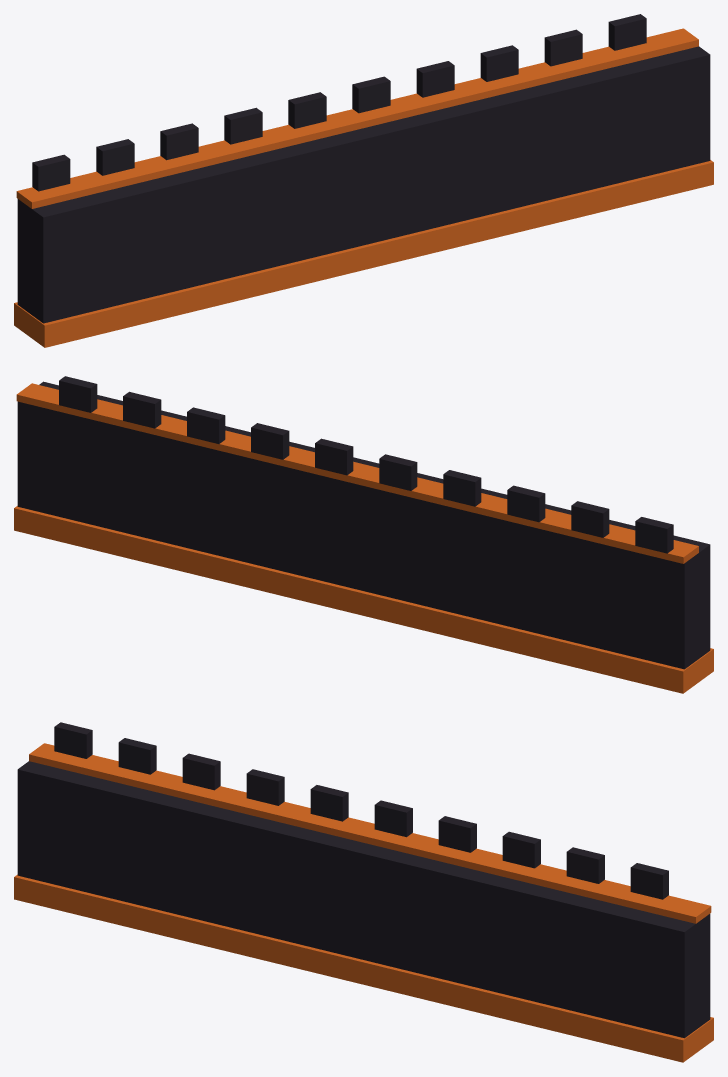
The model's file is demon_wall_broken.glb.
The picture shows the model from 3 angles, top to bottom: view 1: azimuth 30°, elevation 25°; view 2: azimuth 150°, elevation 25°; view 3: azimuth 330°, elevation 25°; orthographic projection.
Parts seen in each view (by area): view 1: demon_wall_piece1, demon_wall_piece2, demon_wall_piece8, demon_wall_piece5, demon_wall_piece4, demon_wall_piece6, demon_wall_piece7, demon_wall_piece0, demon_wall_piece10, demon_wall_piece11, demon_wall_piece3; view 2: demon_wall_piece1, demon_wall_piece4, demon_wall_piece0, demon_wall_piece2, demon_wall_piece10, demon_wall_piece8, demon_wall_piece13, demon_wall_piece3, demon_wall_piece9, demon_wall_piece7, demon_wall_piece12, demon_wall_piece5; view 3: demon_wall_piece1, demon_wall_piece8, demon_wall_piece2, demon_wall_piece5, demon_wall_piece4, demon_wall_piece6, demon_wall_piece7, demon_wall_piece0, demon_wall_piece10, demon_wall_piece11, demon_wall_piece3.
Part boxes in pixels (<box>): demon_wall_piece1: <box>14,107,256,347</box>; demon_wall_piece2: <box>315,40,549,270</box>; demon_wall_piece8: <box>557,28,713,195</box>; demon_wall_piece5: <box>225,99,409,292</box>; demon_wall_piece4: <box>214,93,360,306</box>; demon_wall_piece6: <box>447,38,647,176</box>; demon_wall_piece7: <box>498,140,667,236</box>; demon_wall_piece0: <box>518,14,673,78</box>; demon_wall_piece10: <box>428,173,502,249</box>; demon_wall_piece11: <box>402,173,496,252</box>; demon_wall_piece3: <box>386,225,445,264</box>; demon_wall_piece1: <box>443,471,713,689</box>; demon_wall_piece4: <box>384,454,558,663</box>; demon_wall_piece0: <box>25,376,200,546</box>; demon_wall_piece2: <box>158,400,390,560</box>; demon_wall_piece10: <box>244,475,363,608</box>; demon_wall_piece8: <box>14,381,122,552</box>; demon_wall_piece13: <box>100,423,268,554</box>; demon_wall_piece3: <box>335,541,532,656</box>; demon_wall_piece9: <box>514,544,662,688</box>; demon_wall_piece7: <box>115,487,249,587</box>; demon_wall_piece12: <box>632,641,687,693</box>; demon_wall_piece5: <box>353,457,507,497</box>; demon_wall_piece1: <box>14,722,284,938</box>; demon_wall_piece8: <box>531,900,713,1062</box>; demon_wall_piece2: <box>328,791,569,982</box>; demon_wall_piece5: <box>194,777,383,931</box>; demon_wall_piece4: <box>183,785,343,975</box>; demon_wall_piece6: <box>421,850,621,949</box>; demon_wall_piece7: <box>471,938,636,1051</box>; demon_wall_piece0: <box>537,844,701,905</box>; demon_wall_piece10: <box>402,949,474,1010</box>; demon_wall_piece11: <box>371,922,470,979</box>; demon_wall_piece3: <box>356,964,414,997</box>.
Bounding box in the file's own units: 6.27 × 1.43 × 0.5.
